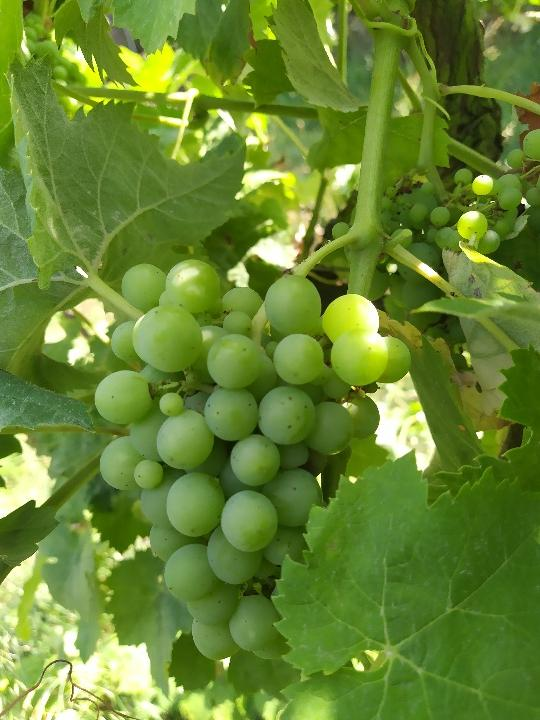grape: (93, 257, 415, 665)
